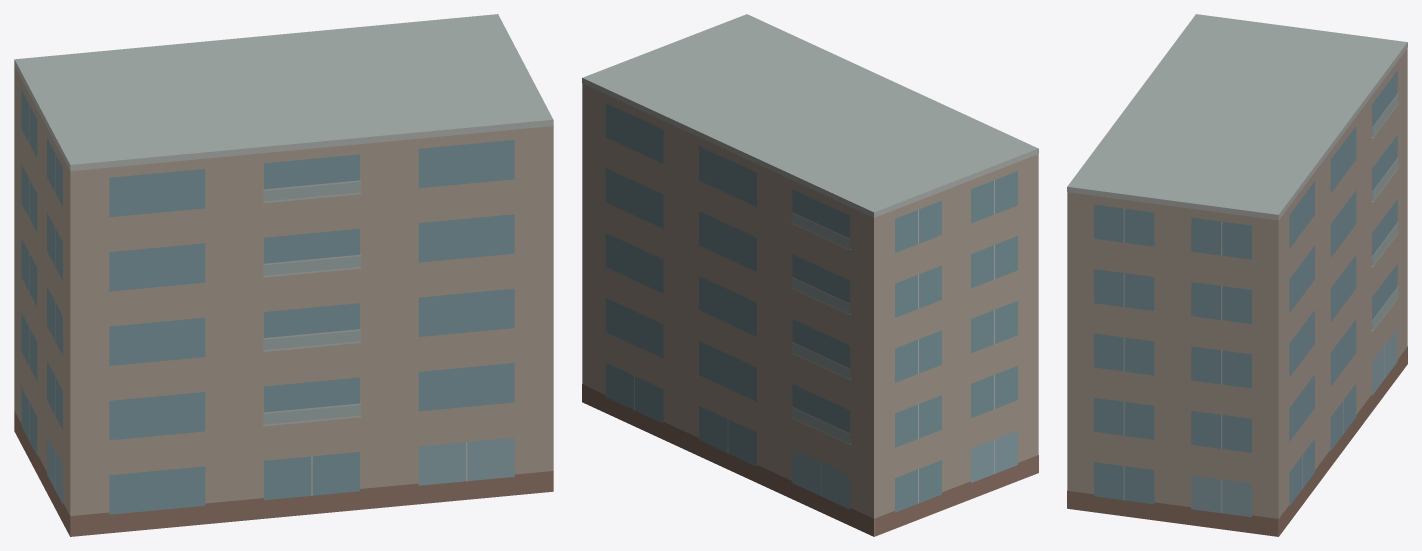
Rendered from survey-upis-32666747.glb.
3 renders of one model, left to right at view 1: azimuth 30°, elevation 25°; view 2: azimuth 150°, elevation 25°; view 3: azimuth 270°, elevation 25°, orthographic. The views are drawn at different scales.
Parts seen in each view (by area): view 1: survey-upis-32666747.tmp; view 2: survey-upis-32666747.tmp; view 3: survey-upis-32666747.tmp.
Part boxes in pixels (bbox=[...]): survey-upis-32666747.tmp: bbox=[14, 14, 553, 536]; survey-upis-32666747.tmp: bbox=[582, 14, 1038, 536]; survey-upis-32666747.tmp: bbox=[1067, 14, 1407, 536].
Size of the model in its own units: 19.41 by 14.5 by 13.91.
